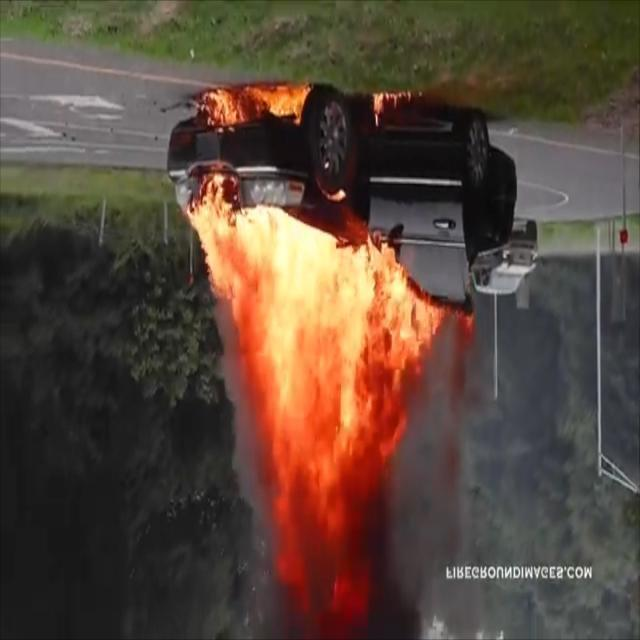fire: (183, 169, 473, 639), (195, 76, 411, 144)
